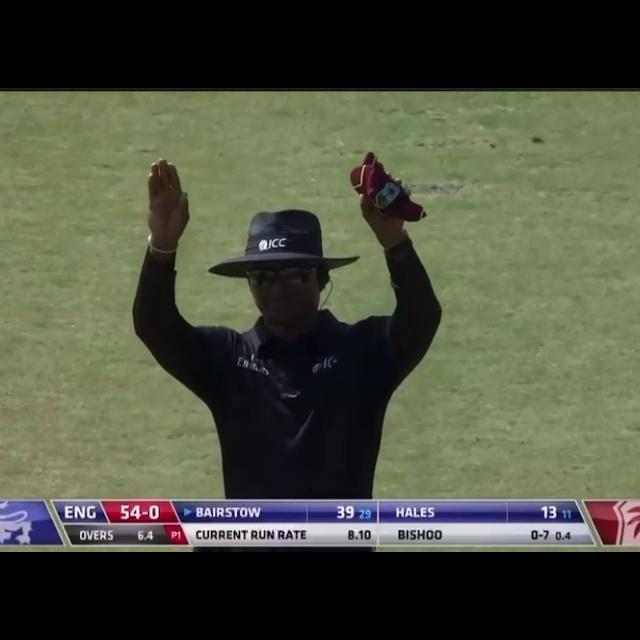umpire: (109, 110, 476, 511)
